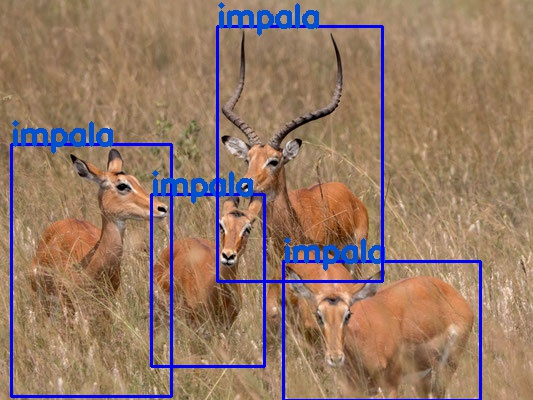impala: (217, 26, 382, 281), (11, 144, 171, 396), (283, 261, 480, 400), (150, 194, 264, 366)
